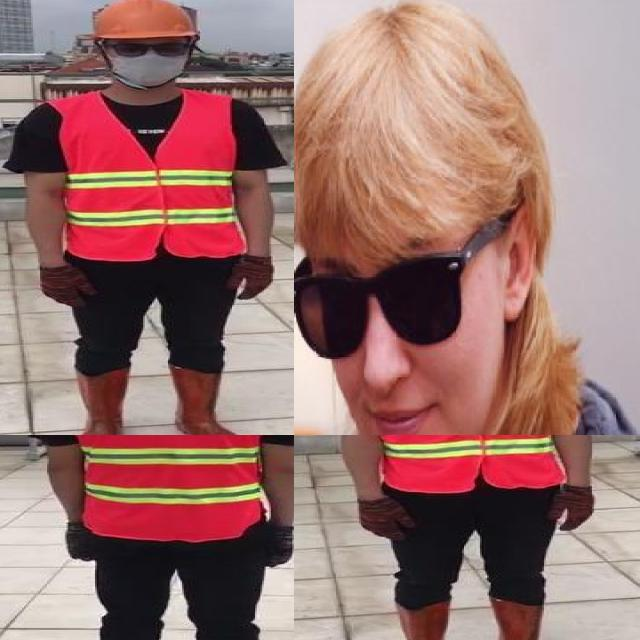No_Ear-Protection: (494, 202, 546, 321)
boots: (162, 363, 244, 435), (70, 368, 127, 435), (487, 595, 570, 640), (389, 600, 455, 640)
face_mask: (106, 37, 191, 86)
face_nomask: (294, 256, 472, 435)
glasses: (294, 218, 522, 362), (106, 36, 194, 62)
hand_glove: (38, 264, 102, 306), (358, 497, 412, 539), (228, 255, 274, 300), (551, 484, 596, 530), (64, 523, 98, 563), (266, 524, 294, 567)
head_helmet: (82, 0, 200, 43)
head_nohelmet: (294, 0, 539, 260)
person: (2, 0, 294, 435), (320, 435, 631, 640), (24, 435, 294, 640)
vest: (53, 92, 239, 258), (61, 435, 271, 541), (370, 435, 562, 493)
